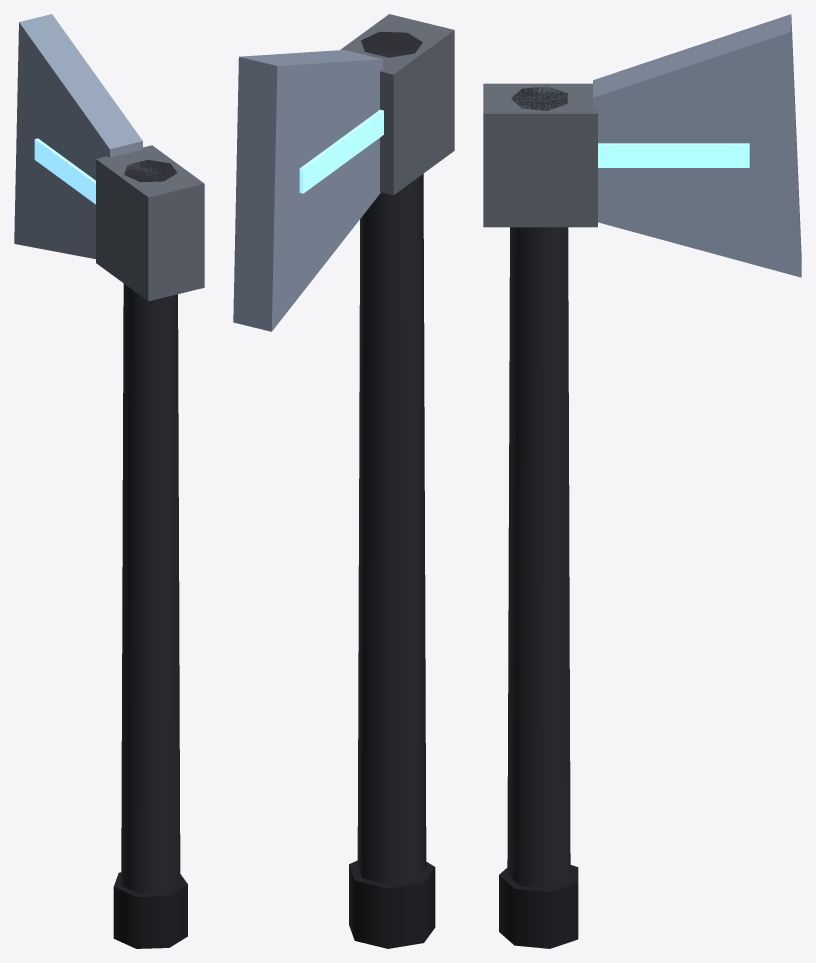
Rendered from tool_combo.glb.
3 renders of one model, left to right at view 1: azimuth 30°, elevation 25°; view 2: azimuth 150°, elevation 25°; view 3: azimuth 270°, elevation 25°, orthographic. The views are drawn at different scales.
Parts seen in each view (by area): view 1: _MeshInstance3D_861, _MeshInstance3D_864, _MeshInstance3D_863, _MeshInstance3D_862, Glow; view 2: _MeshInstance3D_861, _MeshInstance3D_864, _MeshInstance3D_863, _MeshInstance3D_862, Glow; view 3: _MeshInstance3D_861, _MeshInstance3D_864, _MeshInstance3D_863, _MeshInstance3D_862, Glow.
Part boxes in pixels (bbox=[...]): _MeshInstance3D_861: bbox=[121, 159, 180, 893]; _MeshInstance3D_864: bbox=[14, 14, 142, 259]; _MeshInstance3D_863: bbox=[96, 145, 204, 301]; _MeshInstance3D_862: bbox=[113, 872, 187, 948]; Glow: bbox=[34, 138, 95, 204]; _MeshInstance3D_861: bbox=[357, 31, 426, 884]; _MeshInstance3D_864: bbox=[233, 50, 382, 331]; _MeshInstance3D_863: bbox=[340, 14, 454, 195]; _MeshInstance3D_862: bbox=[349, 860, 435, 948]; Glow: bbox=[299, 109, 383, 193]; _MeshInstance3D_861: bbox=[507, 86, 570, 888]; _MeshInstance3D_864: bbox=[593, 14, 801, 277]; _MeshInstance3D_863: bbox=[483, 83, 597, 227]; _MeshInstance3D_862: bbox=[499, 865, 578, 948]; Glow: bbox=[598, 143, 749, 167].
Bounding box in the file's own units: 0.039 × 0.48 × 0.1525.
